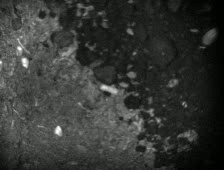corn: (198, 25, 219, 48), (18, 54, 33, 71), (13, 44, 25, 59), (53, 124, 65, 138), (1, 58, 6, 76)
